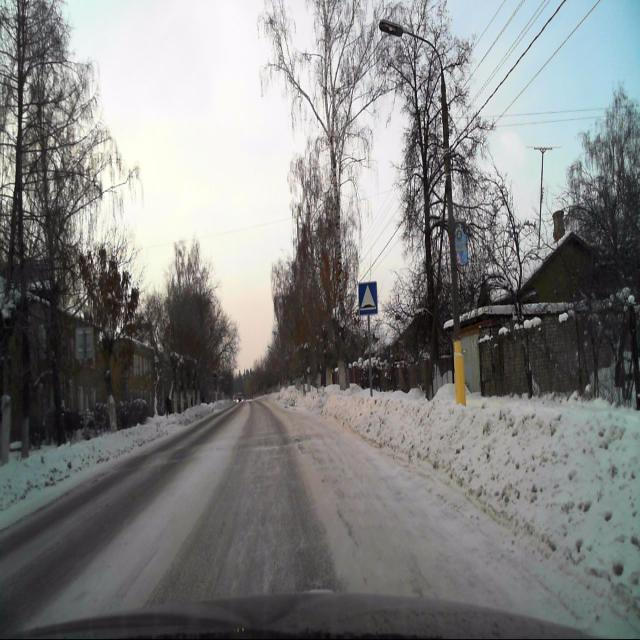road sign: (358, 281, 378, 315)
